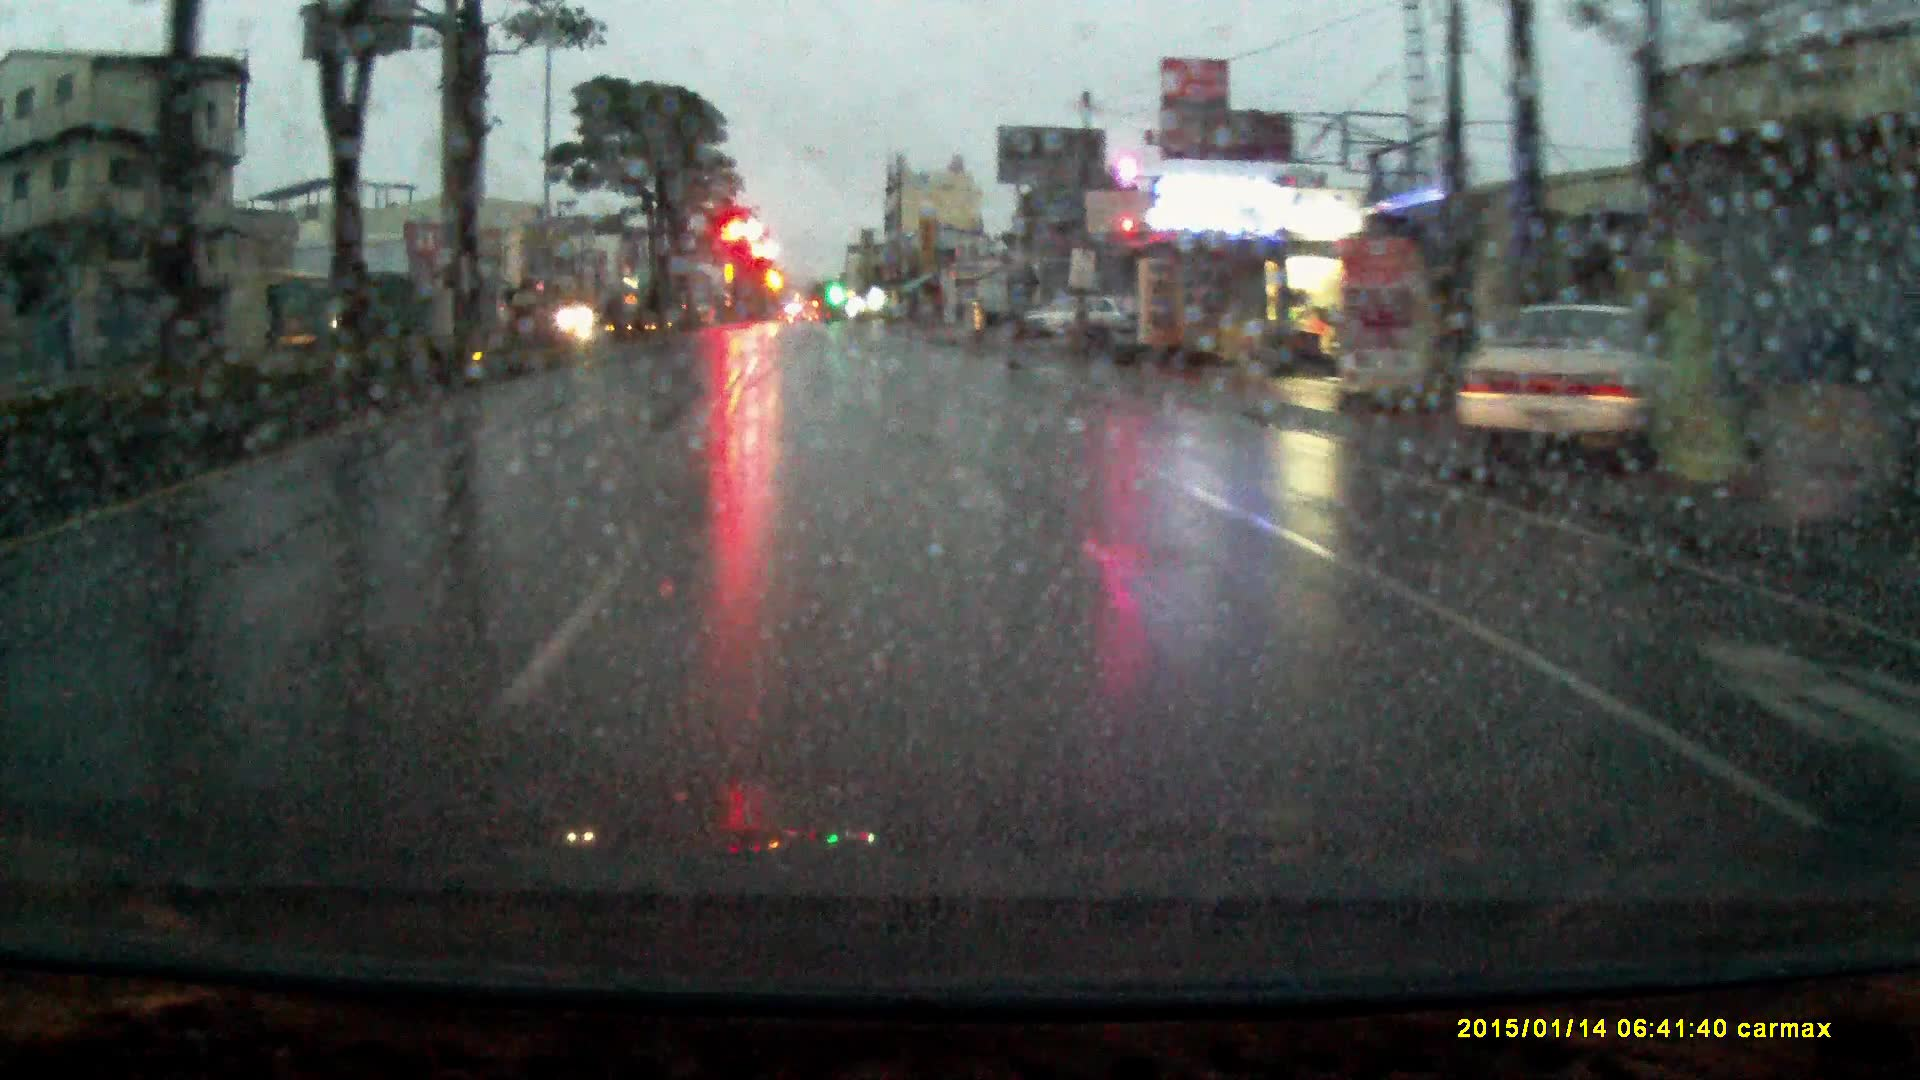vehicle: (1447, 289, 1698, 465), (1023, 291, 1125, 338), (556, 299, 603, 332)
